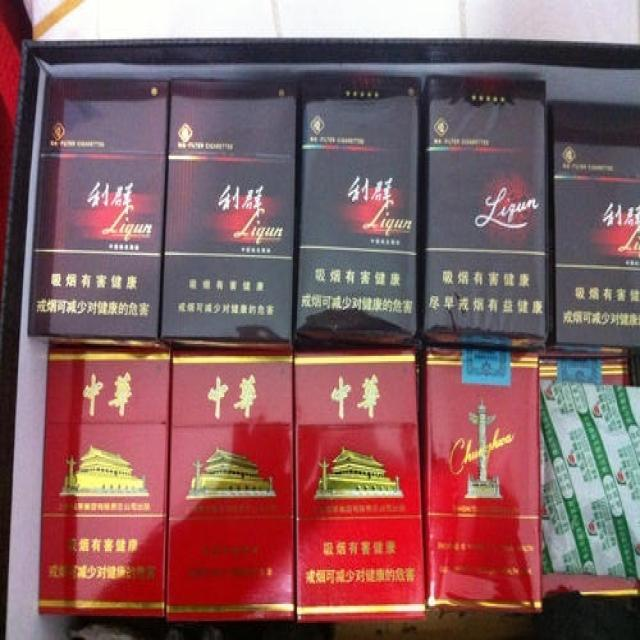box: (26, 75, 169, 349), (159, 75, 297, 347), (294, 347, 428, 623), (420, 75, 550, 351), (38, 347, 170, 618), (165, 347, 294, 623), (294, 75, 422, 347), (421, 346, 543, 614), (548, 99, 640, 349), (541, 358, 632, 388), (543, 573, 639, 601)
